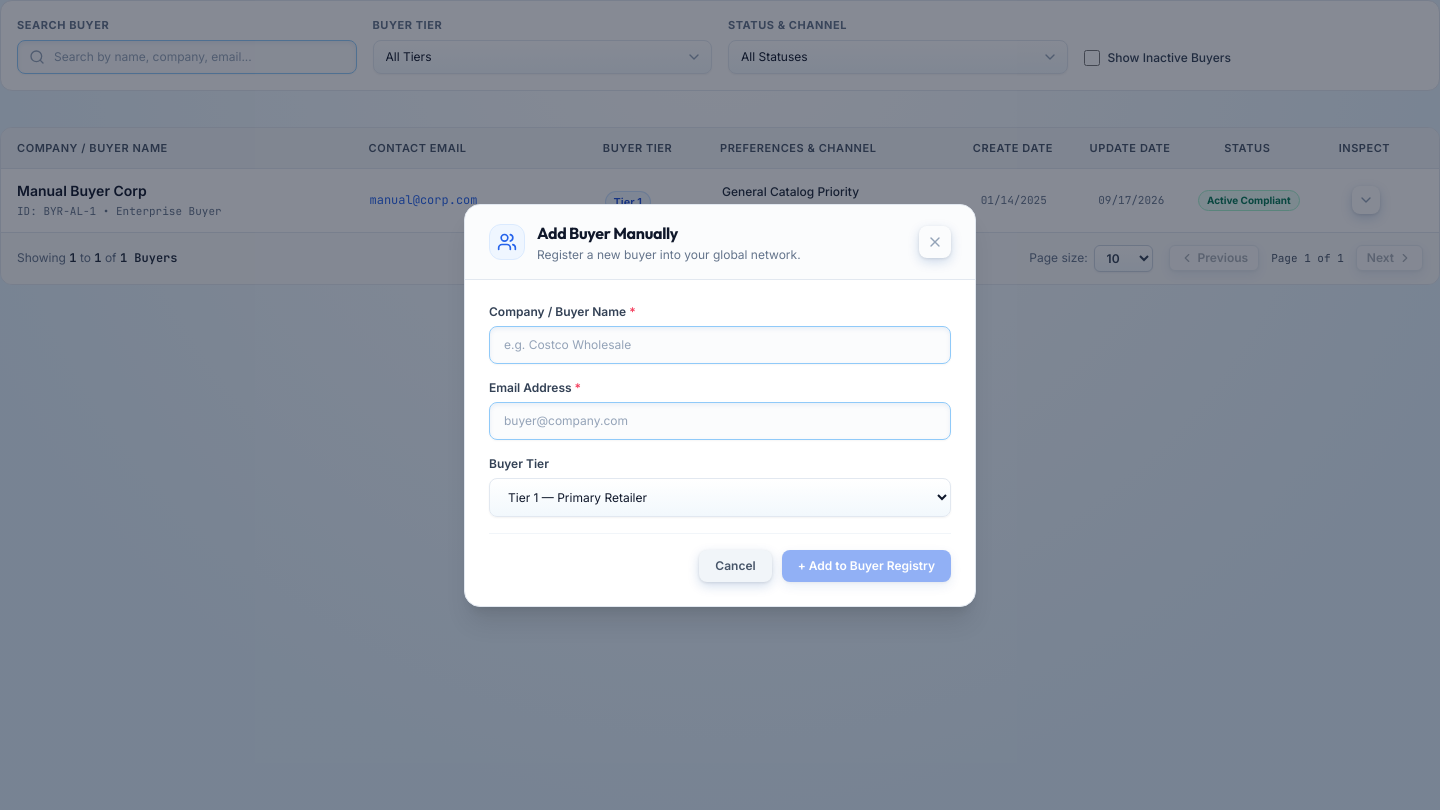
Test: BuyerRegistryPanel — Live CSV Ingestion & Unified Buyer Registry (Issue 03) › should open and close Add Buyer Manually modal on open-add-buyer-modal event
expect the text "Register a new buyer into your global network." is shown: met, box [537,246,801,262]
expect the field with placeholder "e.g. Costco Wholesale" is shown: met, box [489,326,951,364]
Click the button "Cancel": (735, 566) [699,550,772,582]
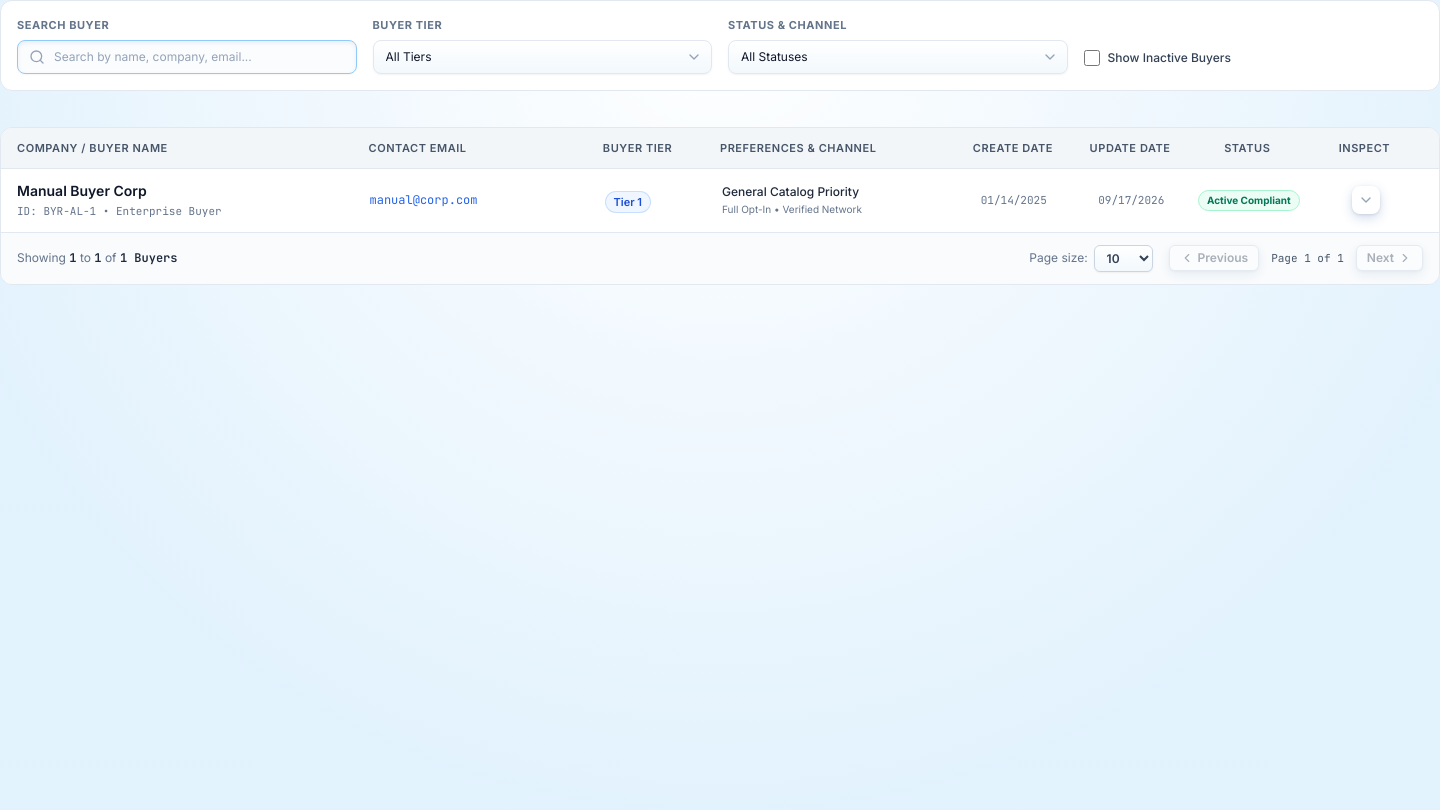
expect the text "Register a new buyer into your global network." is gone: met
